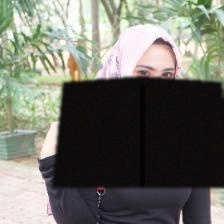Cadar_Niqab: (52, 21, 224, 187)
